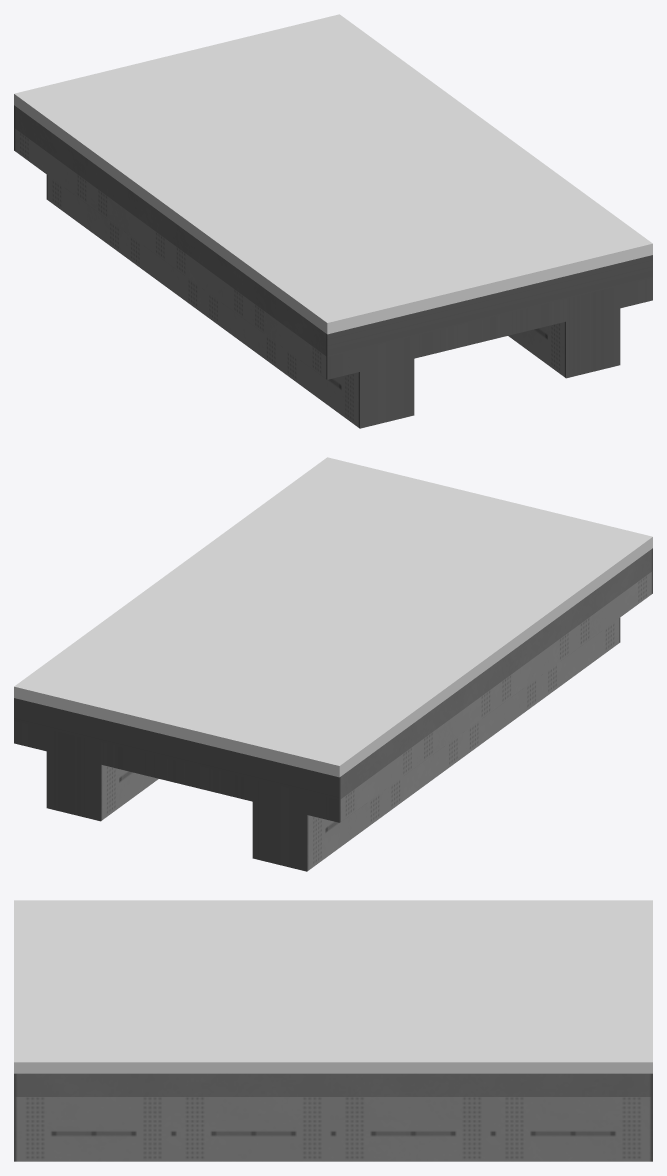
File: 【組立式】高速道路(中一車線)_W3.m×D5m×H0.1m.fbx
The picture shows the model from 3 angles, top to bottom: view 1: azimuth 30°, elevation 25°; view 2: azimuth 150°, elevation 25°; view 3: azimuth 270°, elevation 25°; orthographic projection.
Parts seen in each view (by area): view 1: Road, Wall; view 2: Road, Wall; view 3: Road, Wall.
Part boxes in pixels (x1,y1,x2,y2): Road: (14, 14, 652, 334); Wall: (14, 105, 652, 428); Road: (14, 457, 652, 777); Wall: (14, 548, 652, 871); Road: (14, 900, 652, 1073); Wall: (14, 1073, 652, 1161).
Size of the model in its own units: 3 by 1 by 5.
